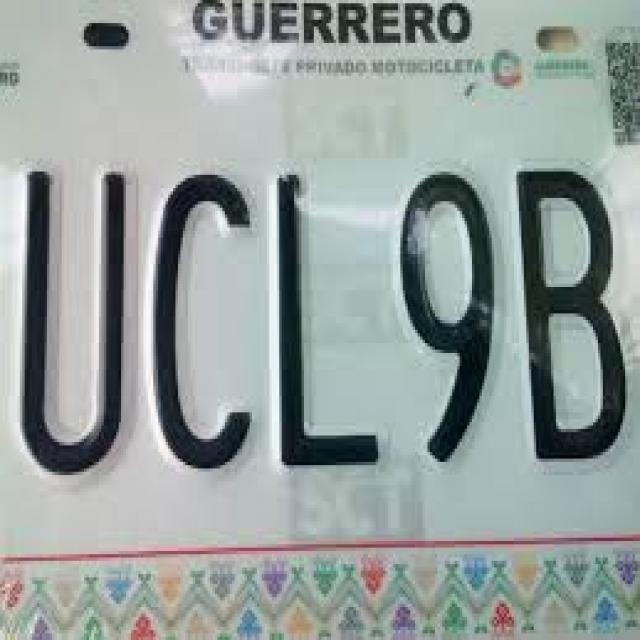placa: (11, 145, 637, 512)
